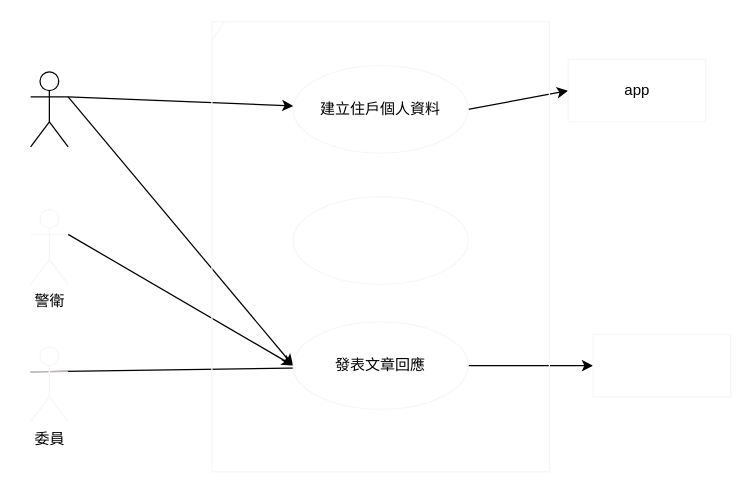
The diagram is 753 pixels wide and 494 high, and some of its shapes have lost their labels. The shapes that lost their labels are listed below. From the top down, each one's centre as x and y in pixels, then its label:
the point at 48,109: 住戶
the point at 661,365: 論壇
